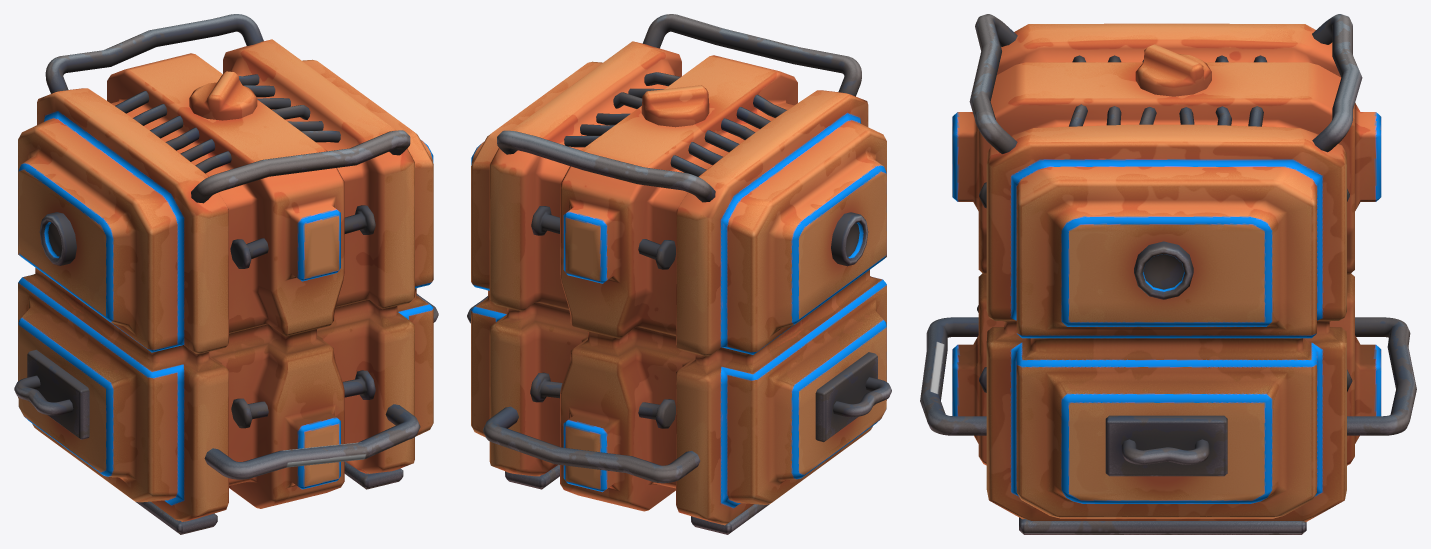
File: SM_Cratebox.fbx
3 renders of one model, left to right at view 1: azimuth 30°, elevation 25°; view 2: azimuth 150°, elevation 25°; view 3: azimuth 270°, elevation 25°, orthographic. The views are drawn at different scales.
Visible parts, largest first — view 1: Cratebox; view 2: Cratebox; view 3: Cratebox.
Part boxes in pixels (x1,y1,x2,y2): Cratebox: (14, 14, 438, 534); Cratebox: (467, 14, 891, 534); Cratebox: (920, 14, 1416, 534).
Size of what is drawn, in the model's own units: 124 by 111 by 119.
Materials: 1 (1 with a texture image).
